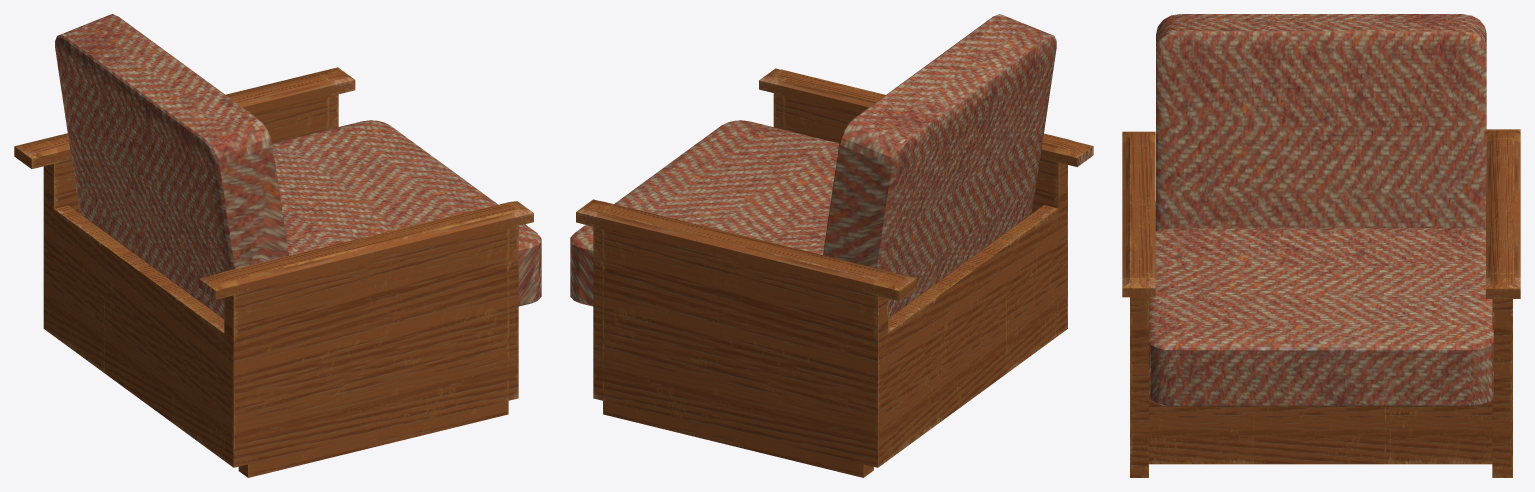
File: Armchair.fbx
3 views of the same model, side by side, from view 1: azimuth 30°, elevation 25°; view 2: azimuth 150°, elevation 25°; view 3: azimuth 270°, elevation 25° (orthographic).
Parts seen in each view (by area): view 1: Sofa.001; view 2: Sofa.001; view 3: Sofa.001.
Part boxes in pixels (x1,y1,x2,y2): Sofa.001: (14, 14, 541, 477); Sofa.001: (570, 14, 1093, 477); Sofa.001: (1122, 14, 1520, 477).
Size of the model in its own units: 795 by 719 by 774.
1 material, 1 textured.
